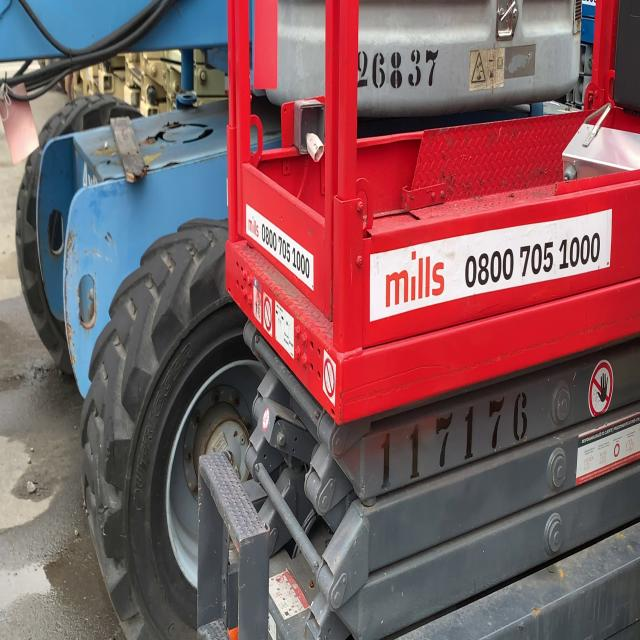Adesivo Longo: (368, 204, 614, 326)
